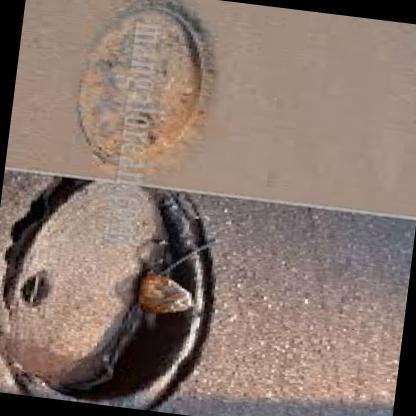manholes: (0, 167, 268, 416), (42, 0, 259, 192)
